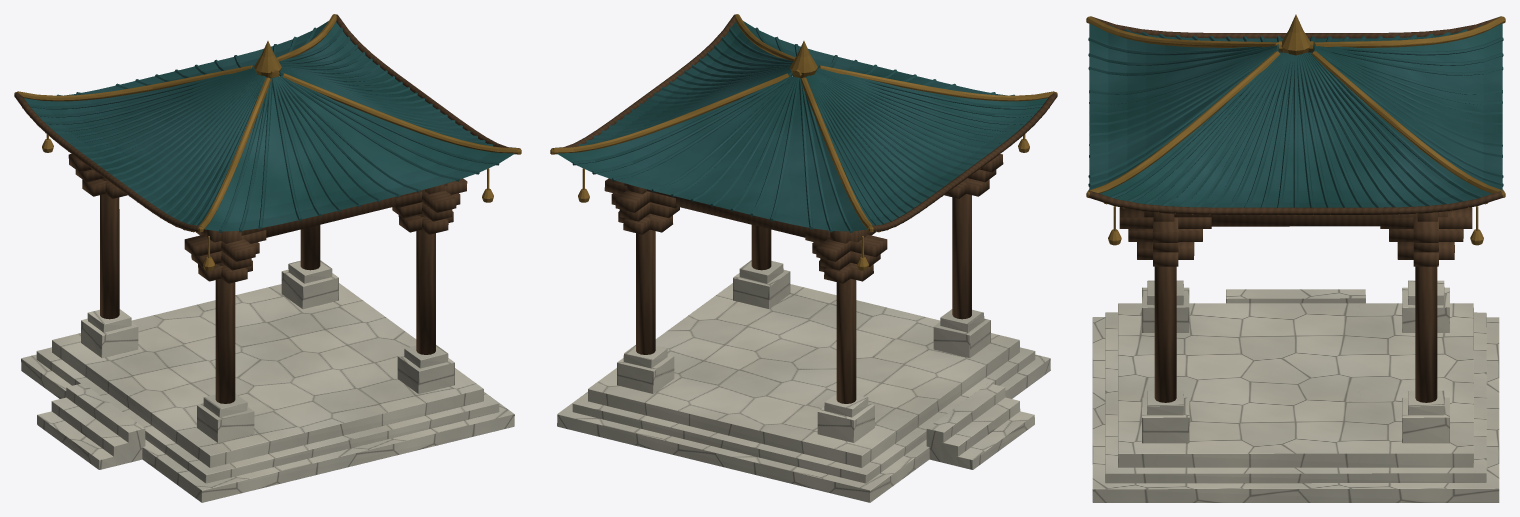
File: a01_pavilion_lod1.fbx
3 views of the same model, side by side, from view 1: azimuth 30°, elevation 25°; view 2: azimuth 150°, elevation 25°; view 3: azimuth 270°, elevation 25° (orthographic). The views are drawn at different scales.
Visible parts, largest first — view 1: a01_pavilion.004; view 2: a01_pavilion.004; view 3: a01_pavilion.004.
Part boxes in pixels (bbox=[...]): a01_pavilion.004: bbox=[14, 14, 521, 502]; a01_pavilion.004: bbox=[550, 14, 1057, 502]; a01_pavilion.004: bbox=[1086, 14, 1505, 502].
Bounding box in the file's own units: 52774 × 59187 × 55984.
